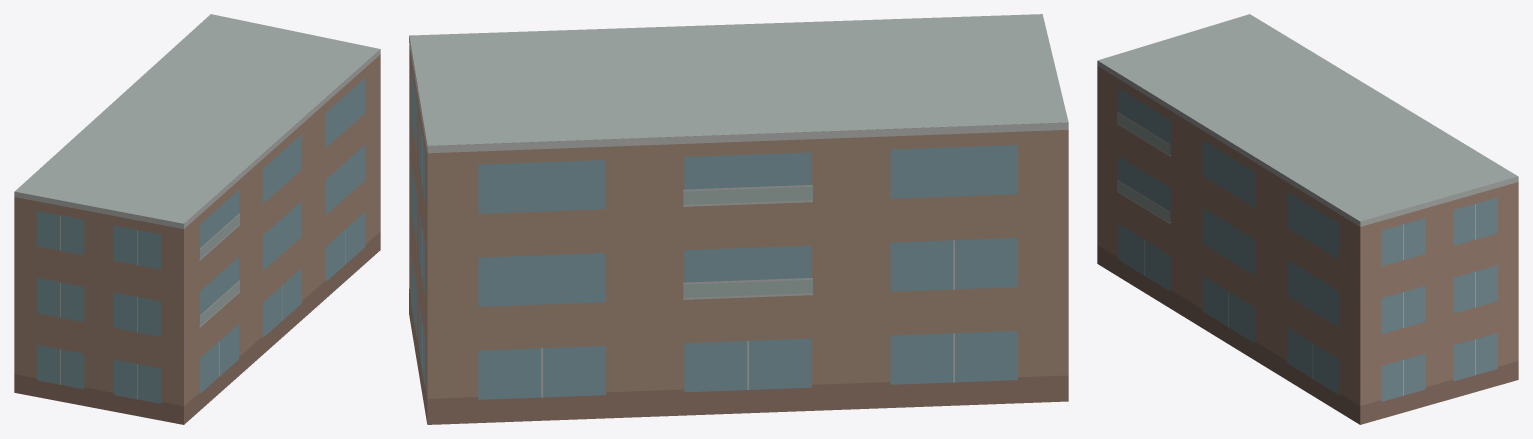
Rendered from survey-upis-32712890.glb.
3 renders of one model, left to right at view 1: azimuth 30°, elevation 25°; view 2: azimuth 150°, elevation 25°; view 3: azimuth 270°, elevation 25°, orthographic. The views are drawn at different scales.
Visible parts, largest first — view 1: survey-upis-32712890.tmp; view 2: survey-upis-32712890.tmp; view 3: survey-upis-32712890.tmp.
Part boxes in pixels (<box>): survey-upis-32712890.tmp: <box>14,14,380,424</box>; survey-upis-32712890.tmp: <box>409,14,1068,424</box>; survey-upis-32712890.tmp: <box>1097,14,1518,424</box>.
Bounding box in the file's own units: 20.04 × 9.15 × 17.18.
